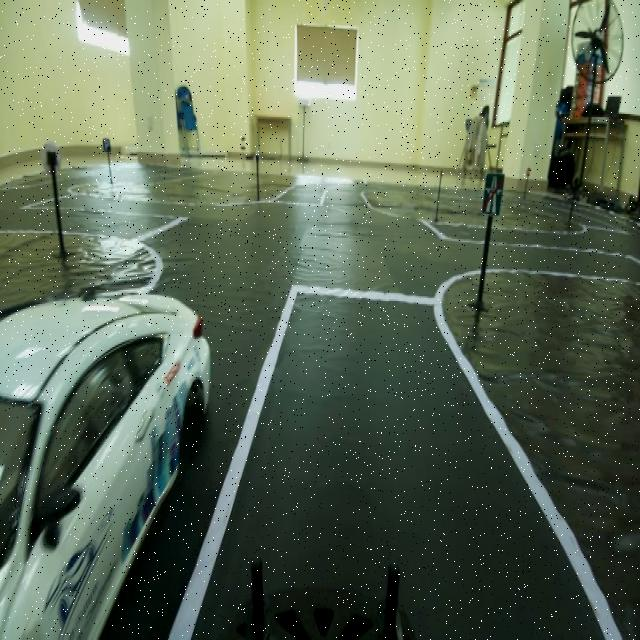car: (5, 239, 214, 640)
highway_exit: (473, 156, 507, 227)
